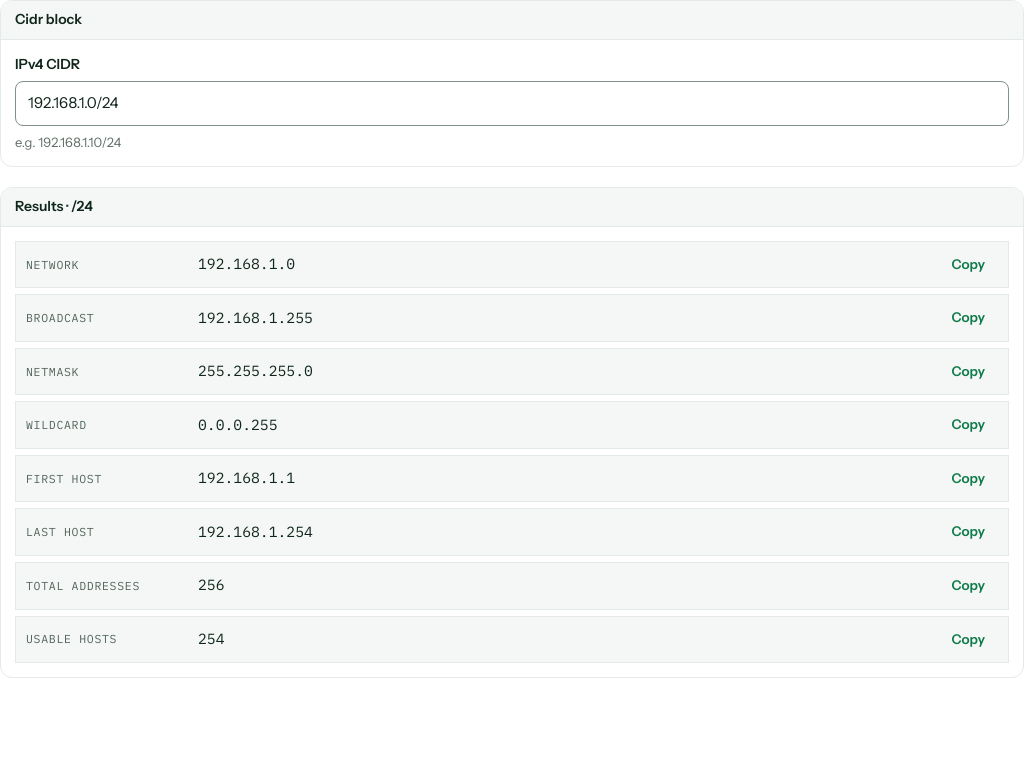
Test case: CidrCalculator › errors when the prefix is missing
Step 1. Replace the text in the field with placeholder "192.168.1.10/24" with "10.0.0.0" → (512,104), box x1=15 y1=81 x2=1009 y2=126
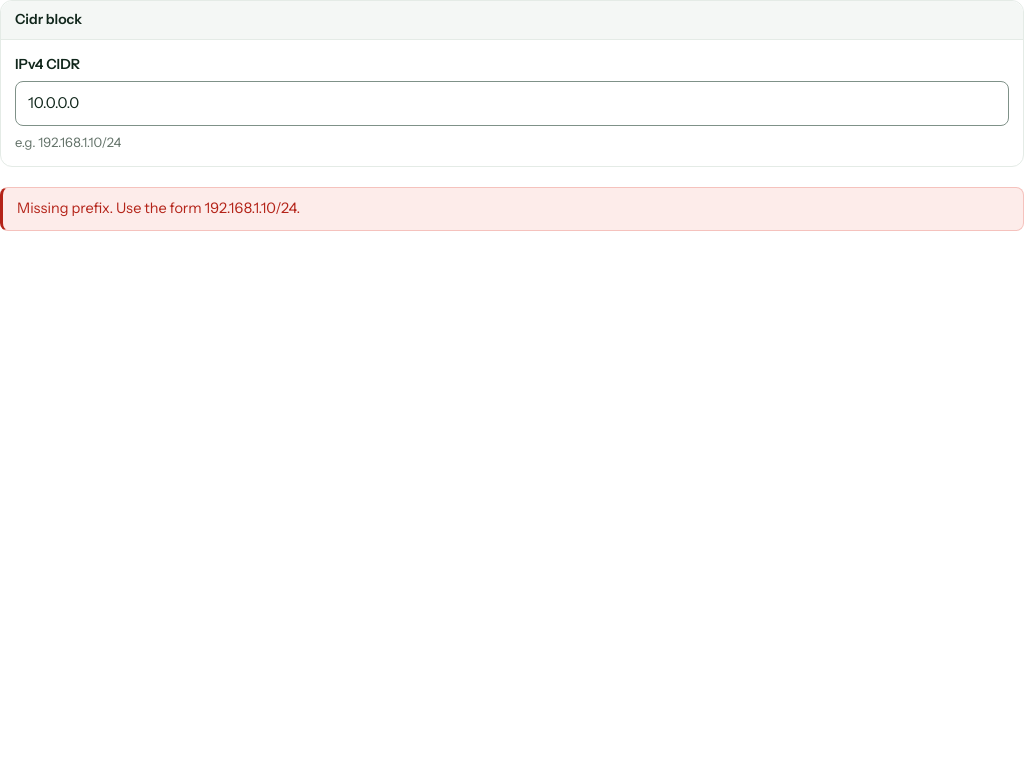
Expected: the text "Missing prefix. Use the form 192.168.1.10/24." is shown, x1=0 y1=187 x2=1023 y2=231
